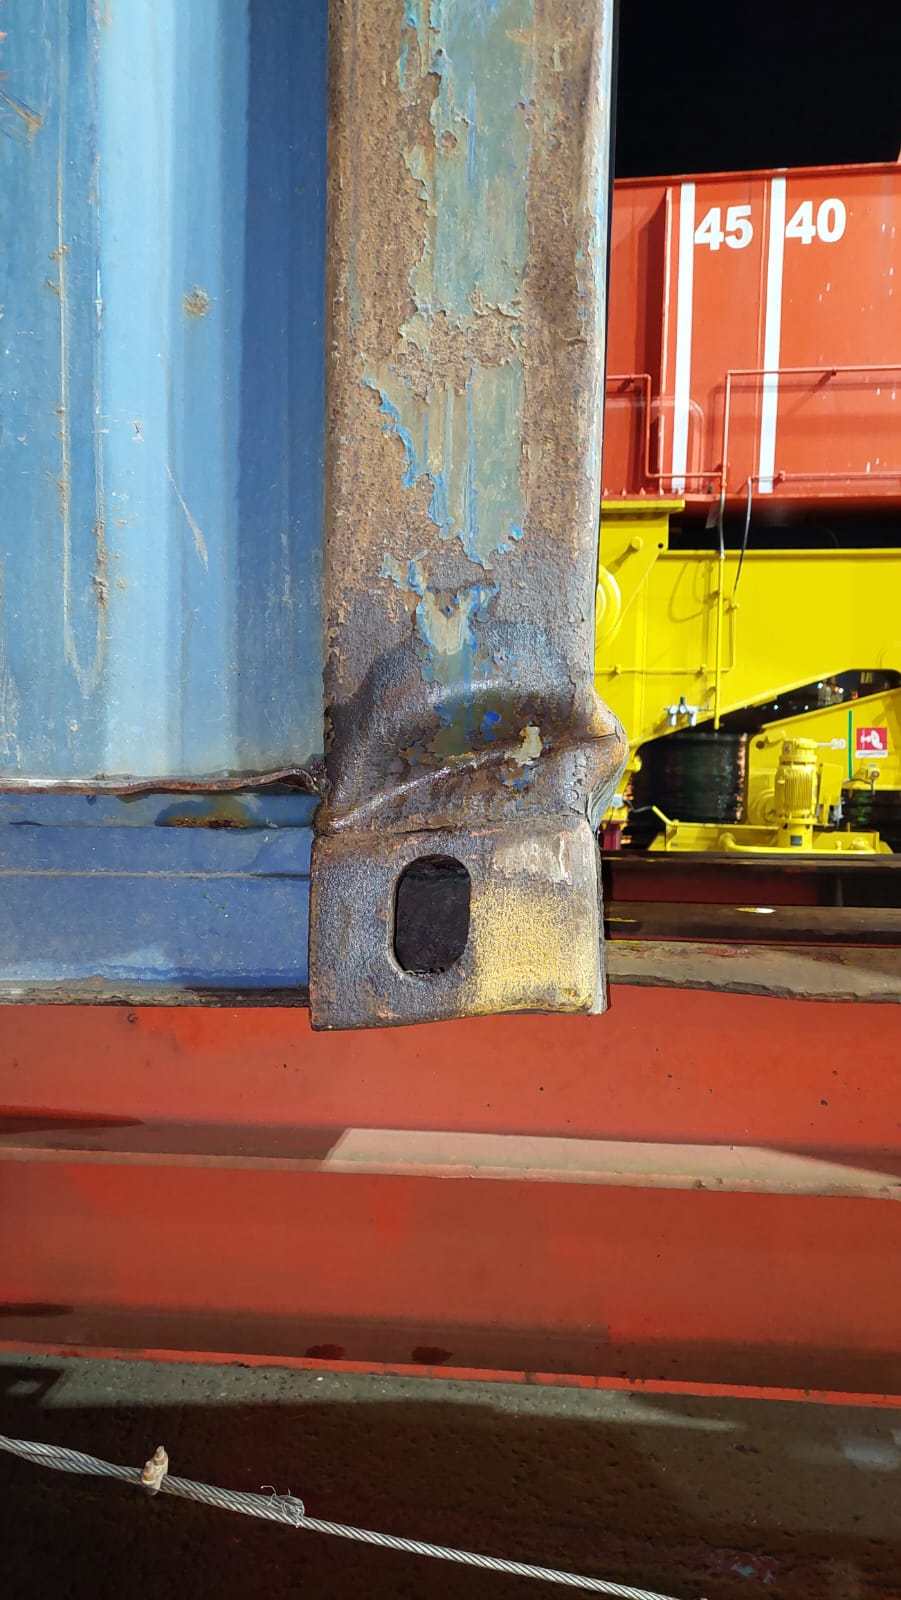dented: (274, 571, 659, 923)
